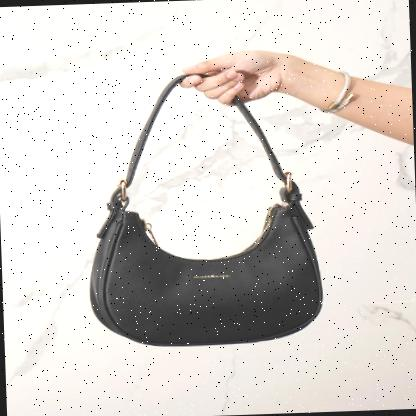bag: (79, 61, 328, 352)
